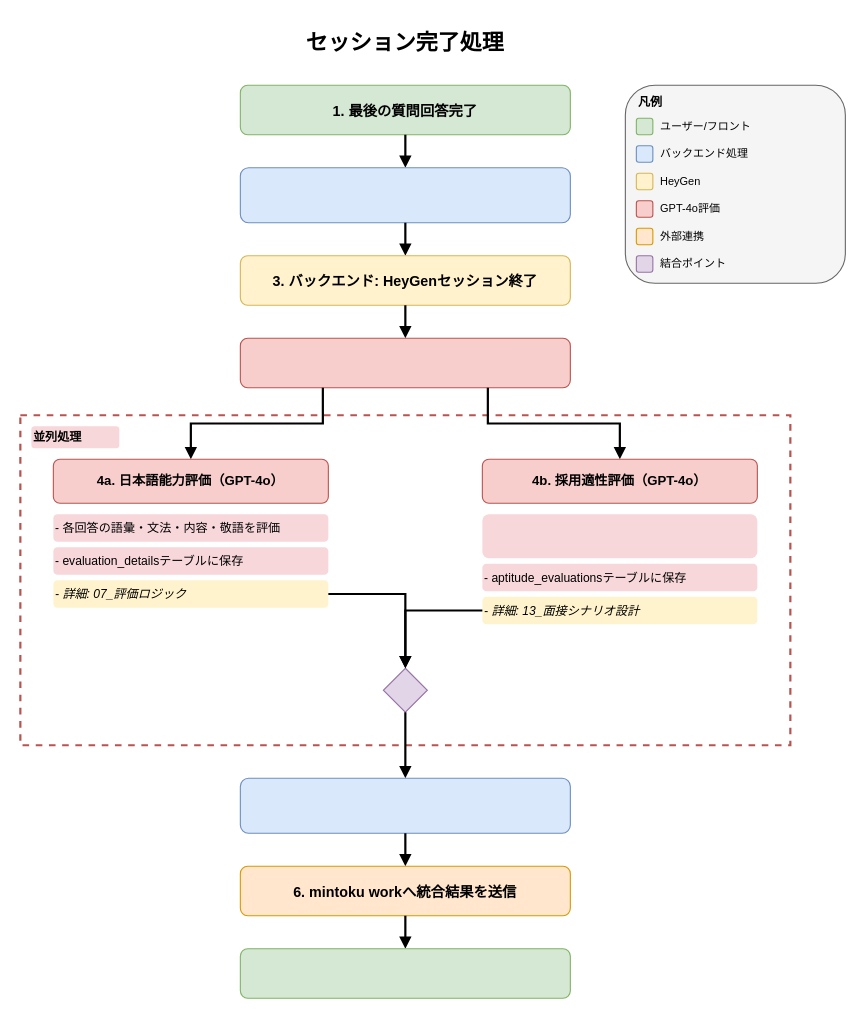
Image size: 865x1018. Some labels were removed from this diagram. Here are the shapes that lost their labels. From the top down, the centre of each, then its label:
the point at 404,195: 2. フロントエンド → バックエンド PUT /api/v1/sessions/{id}/complete
the point at 404,362: 4. バックエンド: 評価処理（非同期）
the point at 619,536: - 適応力・コミュニケーション力・ 主体性・定着意向・協調性を評価
the point at 404,805: 5. 両評価を統合 → evaluationsテーブルに総合スコアを保存
the point at 404,973: 7. フロントエンド: フィードバック画面へ遷移
